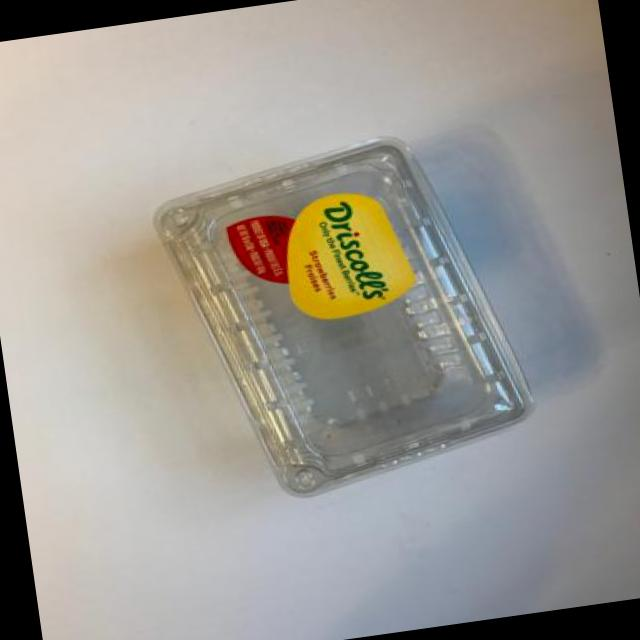plastic: (179, 132, 471, 510)
